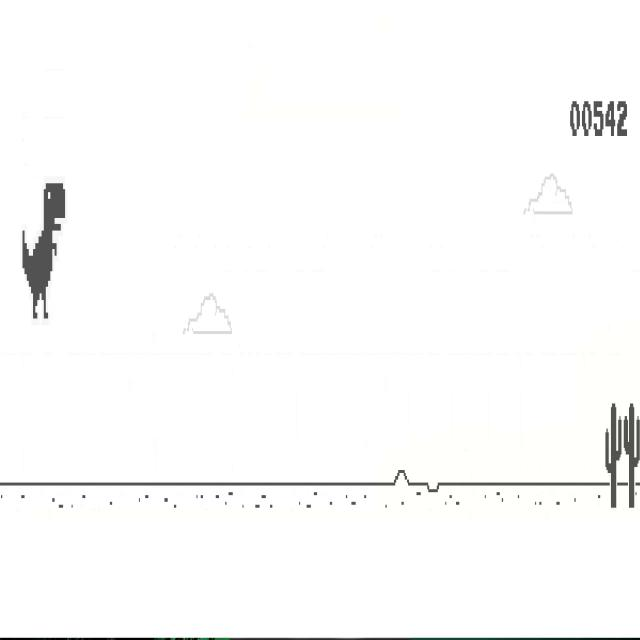cacto: (605, 403, 622, 509), (623, 403, 640, 509)
dino: (21, 182, 66, 320)
